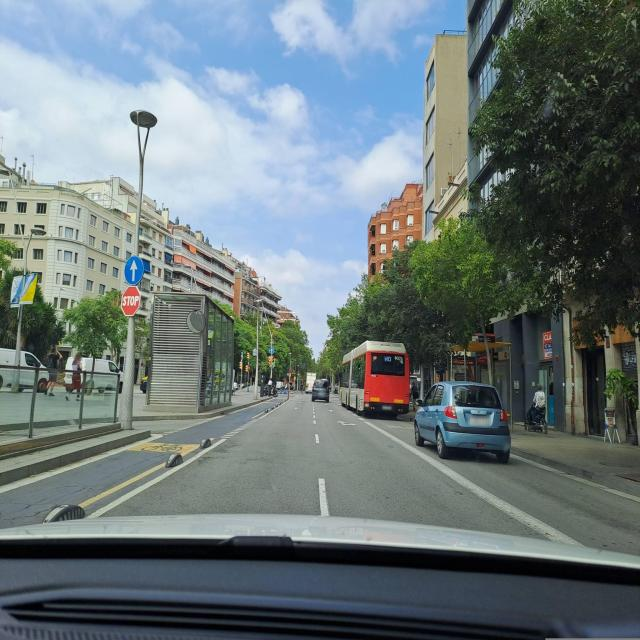bike: (523, 402, 548, 434), (264, 384, 279, 398)
car: (413, 380, 512, 462), (69, 356, 127, 394), (0, 348, 50, 392), (311, 379, 330, 403)
